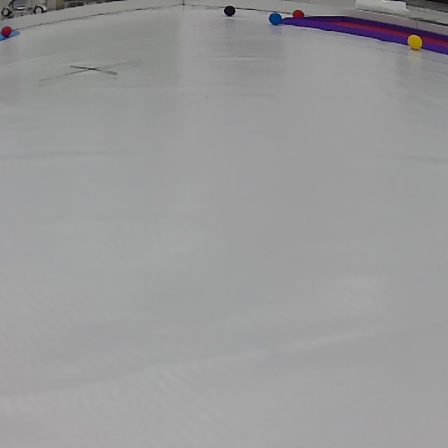black: (222, 5, 237, 17)
blue: (268, 12, 281, 25)
red: (291, 7, 306, 21), (0, 26, 12, 36)
red_aim: (278, 15, 448, 54)
yellow: (404, 34, 425, 51)
